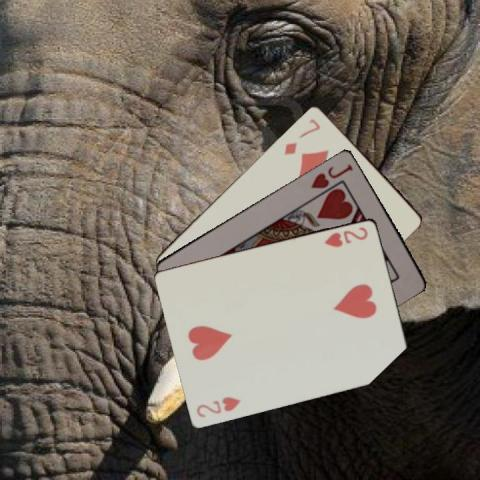2h: (193, 392, 242, 419), (322, 223, 369, 249)
7d: (281, 115, 322, 156)
Jh: (308, 160, 355, 190)
